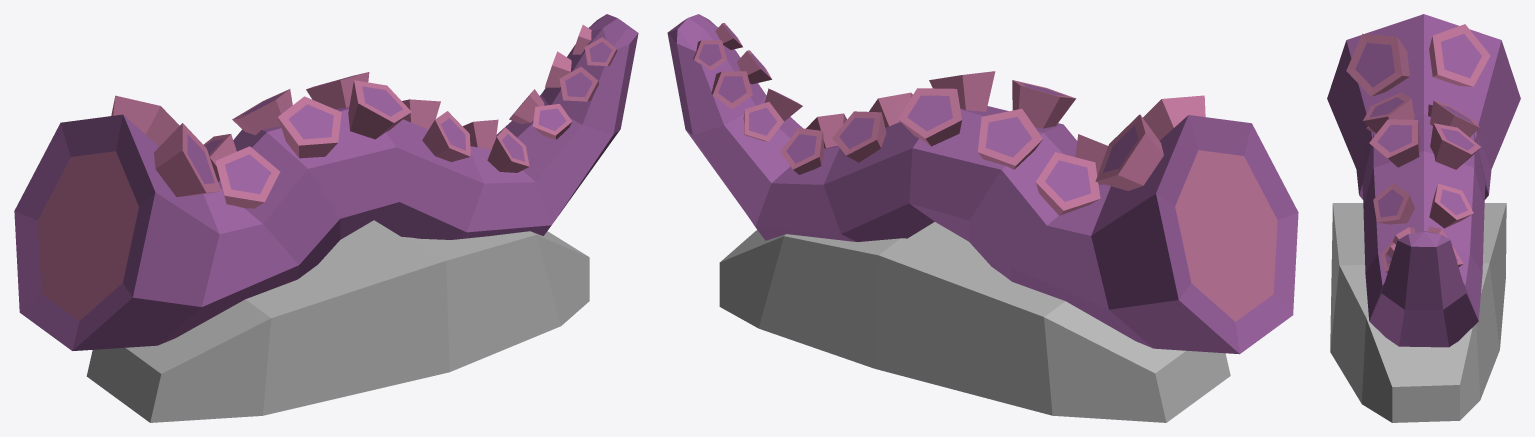
The model's file is Sushi_NigiriOctopus.glb.
The picture shows the model from 3 angles, left to right: view 1: azimuth 30°, elevation 25°; view 2: azimuth 150°, elevation 25°; view 3: azimuth 270°, elevation 25°; orthographic projection. The views are drawn at different scales.
Parts seen in each view (by area): view 1: Sushi_NigiriOctopus; view 2: Sushi_NigiriOctopus; view 3: Sushi_NigiriOctopus.
Part boxes in pixels (x1,y1,x2,y2): Sushi_NigiriOctopus: [14, 14, 638, 422]; Sushi_NigiriOctopus: [667, 14, 1298, 422]; Sushi_NigiriOctopus: [1327, 14, 1520, 422].
Size of the model in its own units: 0.762 by 0.3505 by 0.2673.
